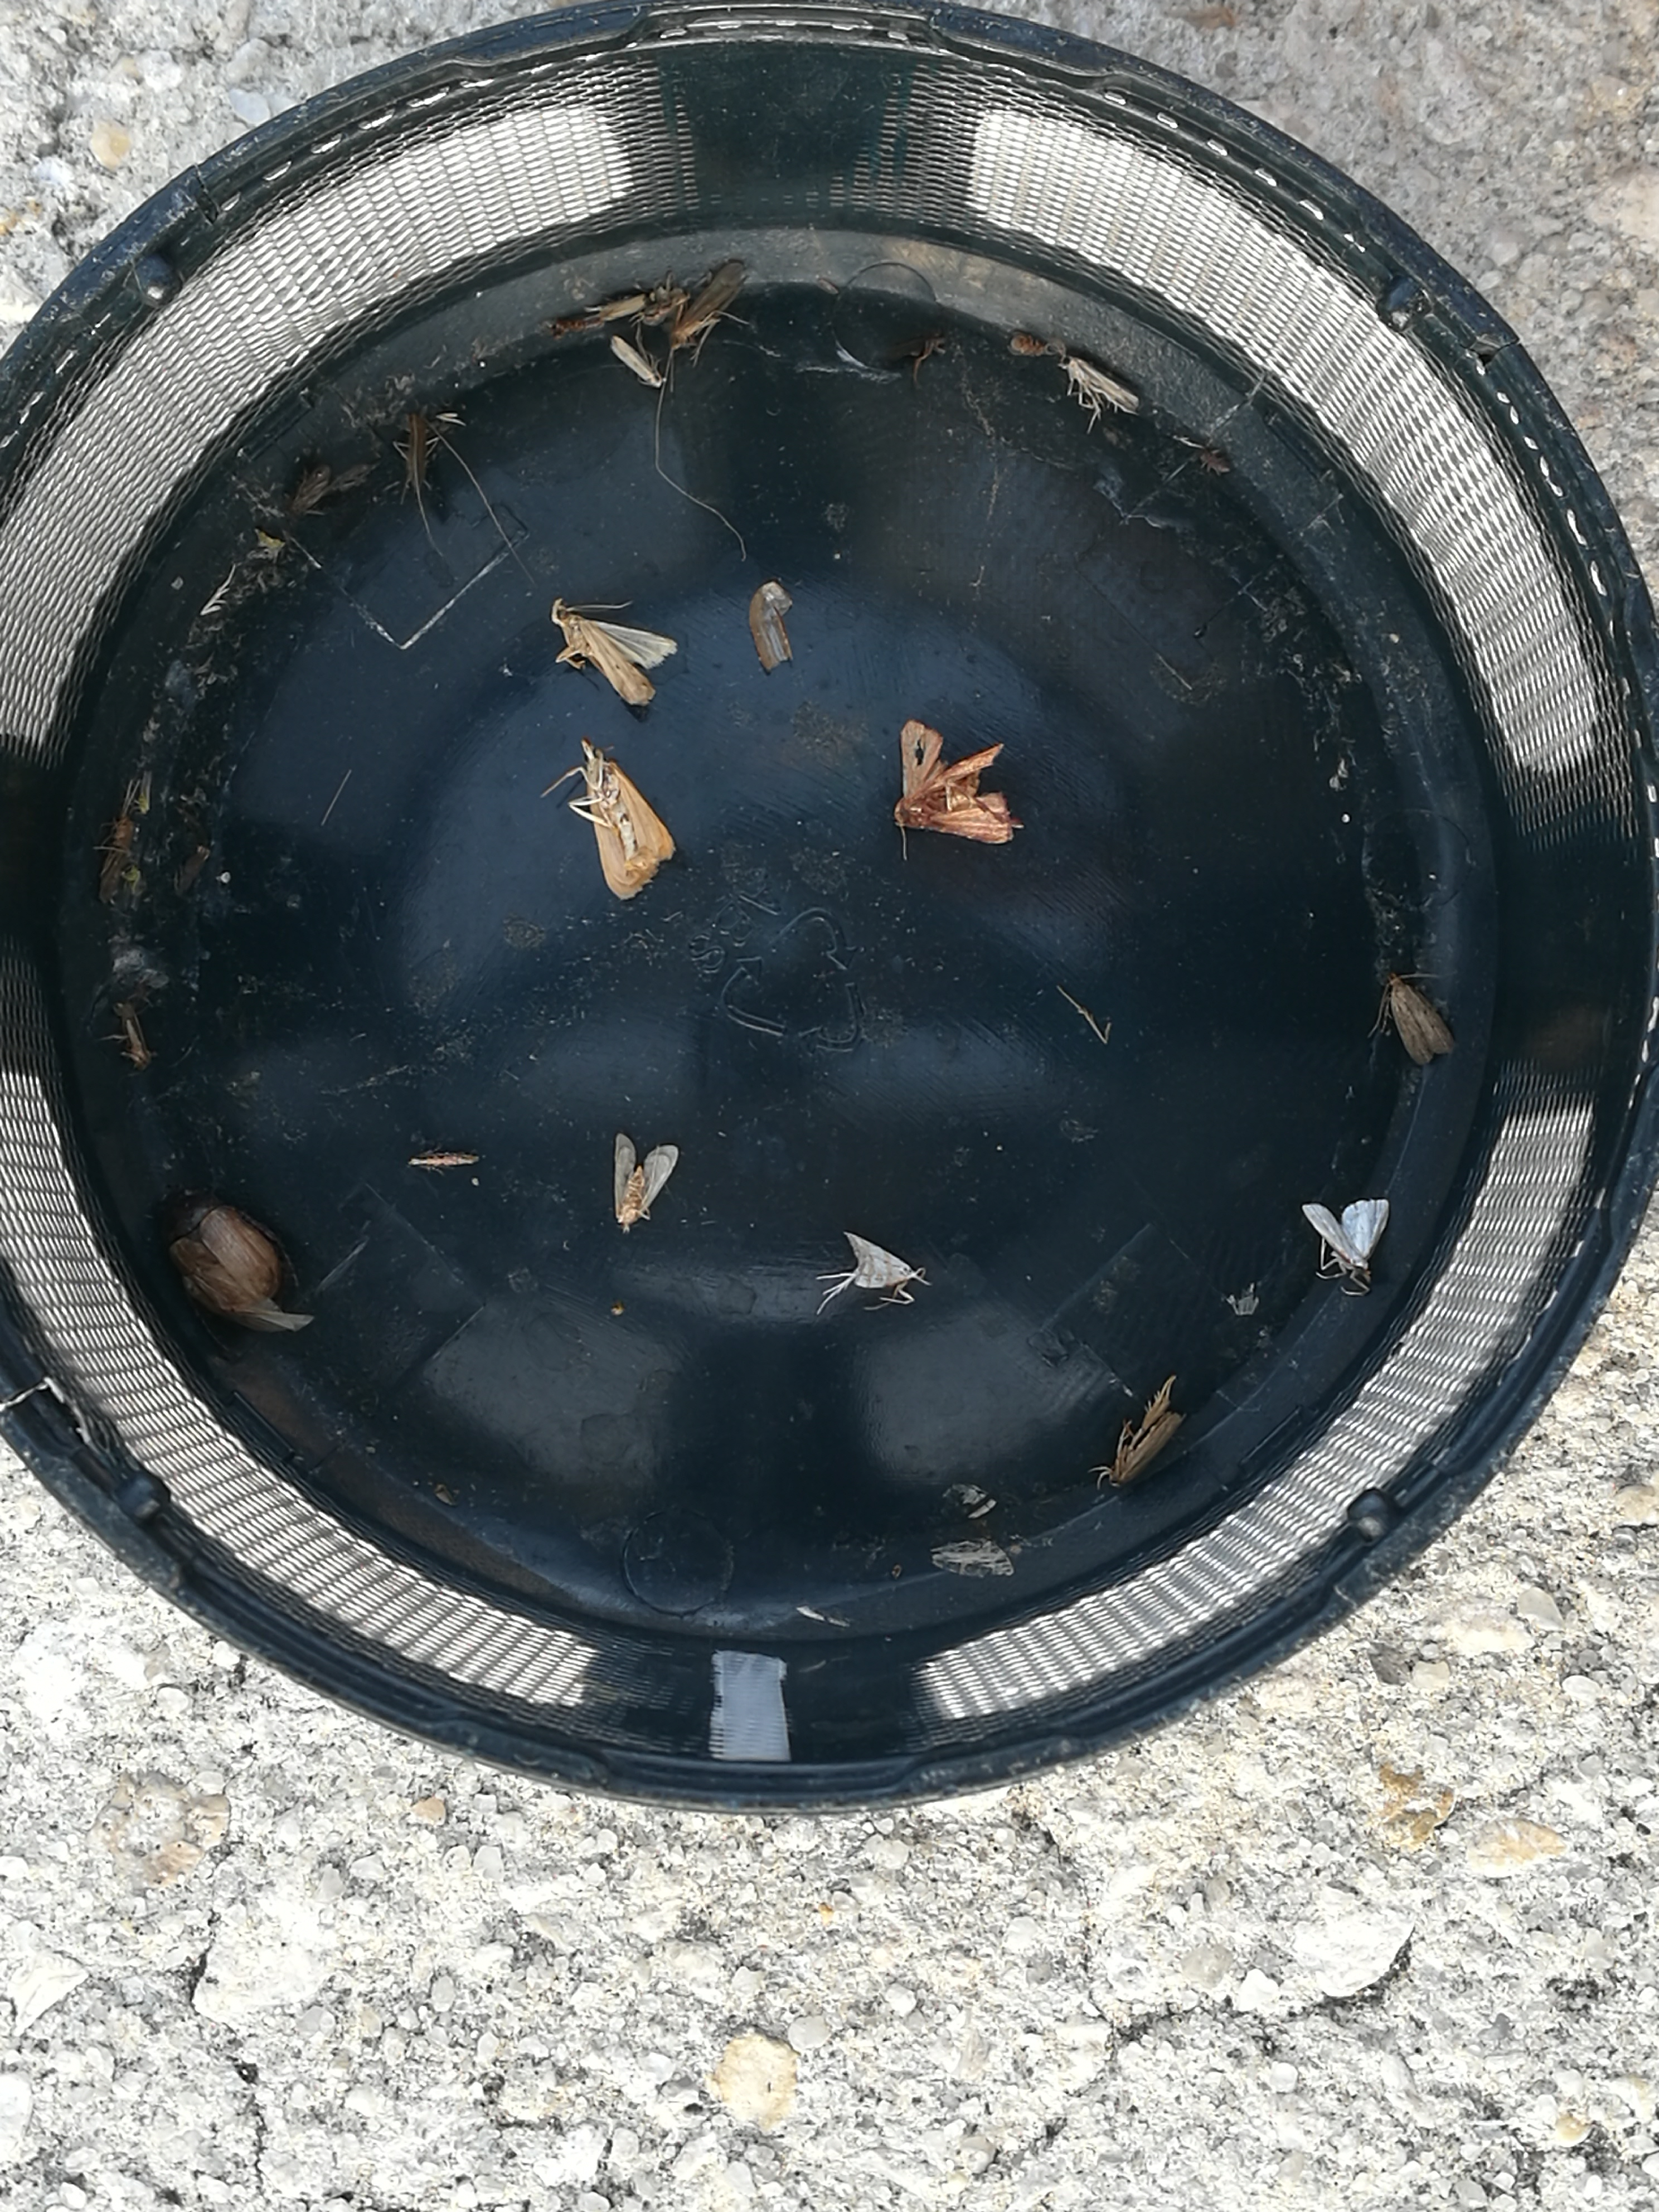beetle: (160, 1190, 281, 1324)
mosquito: (1107, 1379, 1180, 1489), (674, 261, 744, 347), (1065, 355, 1138, 428), (570, 287, 667, 327), (101, 817, 136, 897), (399, 413, 429, 507), (615, 338, 664, 387), (119, 1003, 146, 1071)
moth: (582, 738, 673, 899), (892, 725, 1011, 845), (554, 601, 674, 707), (613, 1134, 676, 1231), (1303, 1197, 1387, 1266), (1392, 979, 1455, 1064), (842, 1235, 917, 1287)
